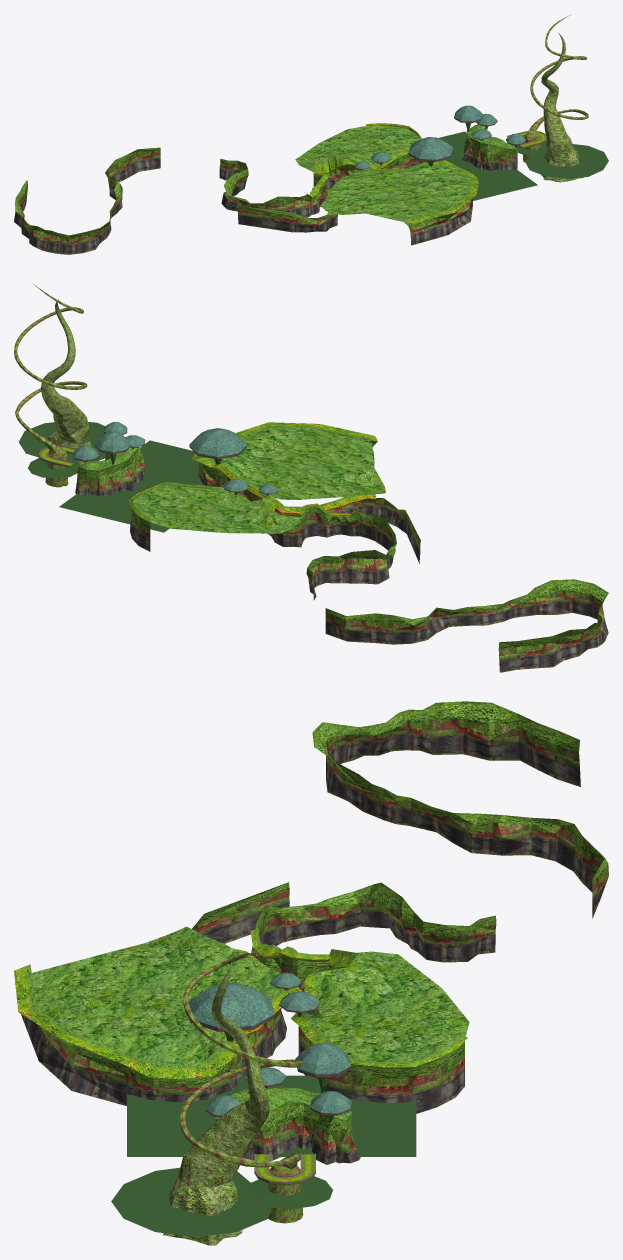
The model's file is Lost Jungle 8.obj.
3 renders of one model, top to bottom at view 1: azimuth 30°, elevation 25°; view 2: azimuth 150°, elevation 25°; view 3: azimuth 270°, elevation 25°, orthographic. The views are drawn at different scales.
Parts seen in each view (by area): view 1: Object_2.001, Object_2, Object_2.002; view 2: Object_2.001, Object_2, Object_2.002; view 3: Object_2.001, Object_2, Object_2.002.
Part boxes in pixels (<box>): Object_2.001: <box>14,32,583,254</box>; Object_2: <box>511,141,608,178</box>; Object_2.002: <box>508,14,588,146</box>; Object_2.001: <box>38,299,608,672</box>; Object_2: <box>19,422,105,478</box>; Object_2.002: <box>14,284,87,465</box>; Object_2.001: <box>14,701,608,1245</box>; Object_2: <box>111,1167,332,1237</box>; Object_2.002: <box>180,953,314,1182</box>.
Size of the model in its own units: 6144 by 1657 by 3083.
Materials: 15 (15 with a texture image).
